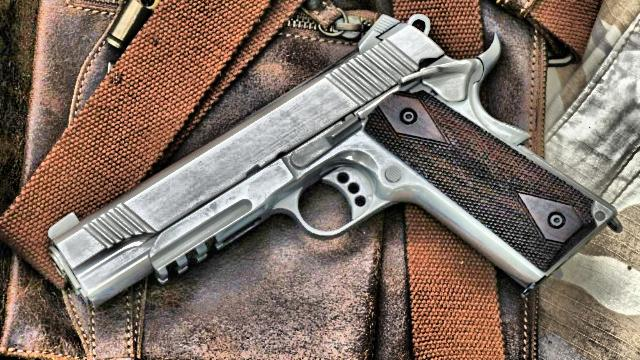pistol: (29, 12, 626, 304)
